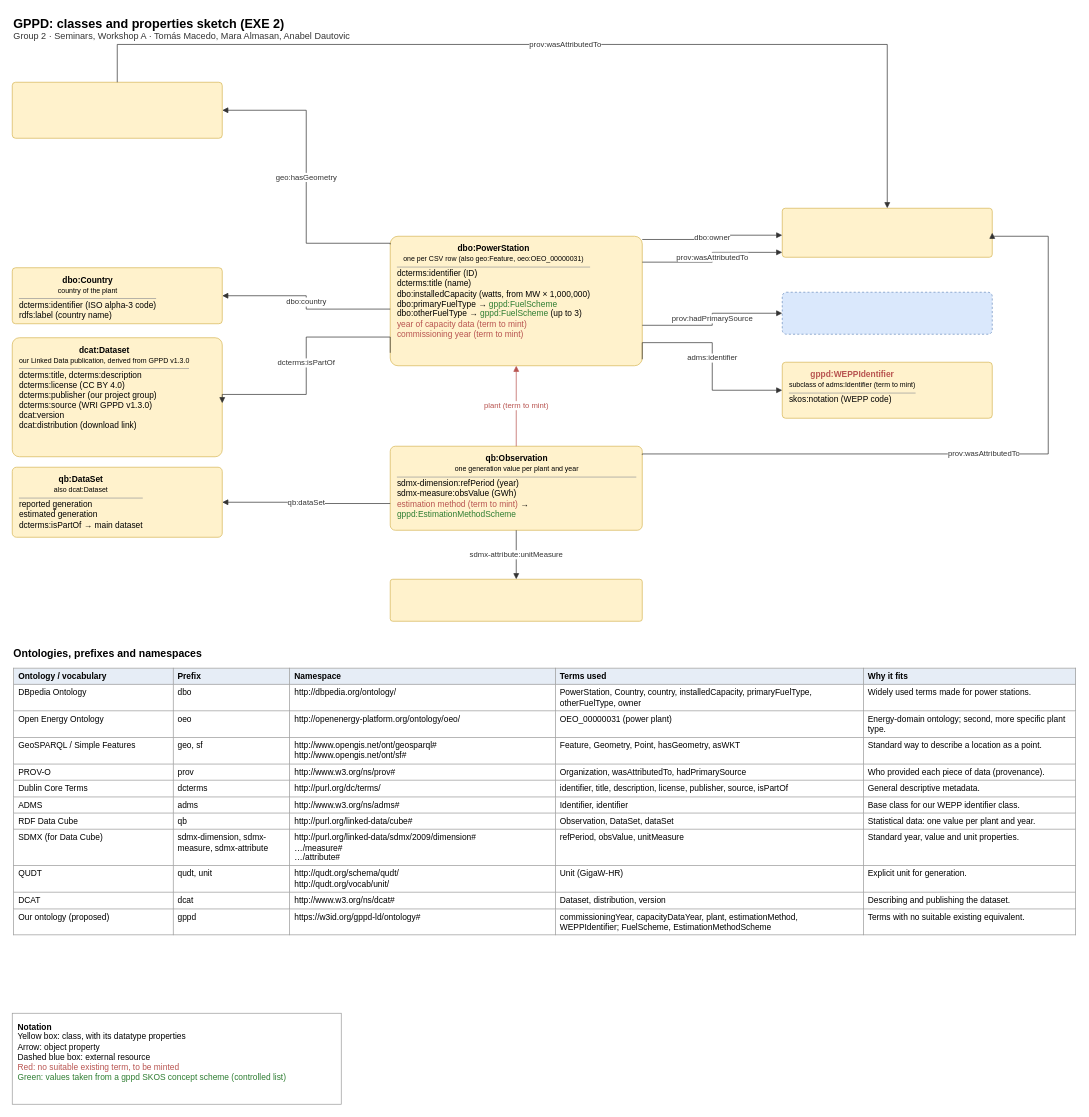
The diagram is 1089 pixels wide and 1117 high, and some of its shapes have lost their labels. The centre of each missing label's shape, as x and y in pixels:
"prov:Organization owner or data source rdfs:label (name)" goes at [887,232].
"qudt:Unit unit of measure gigawatt hour for annual generation" goes at [516,600].
"sf:Point plant location (also geo:Geometry) geo:asWKT, POINT(longitude latitude)" goes at [117,110].
"Source document IRI of a web page or ftp file" goes at [887,313].
